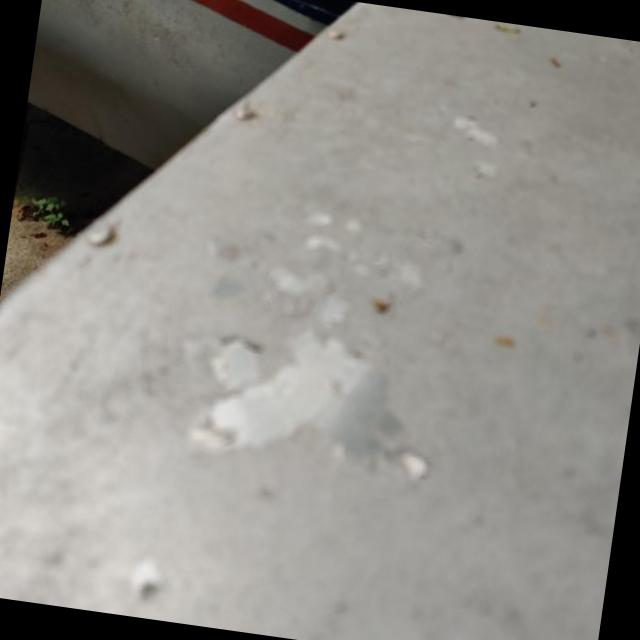Paint-off: (186, 267, 430, 482)
